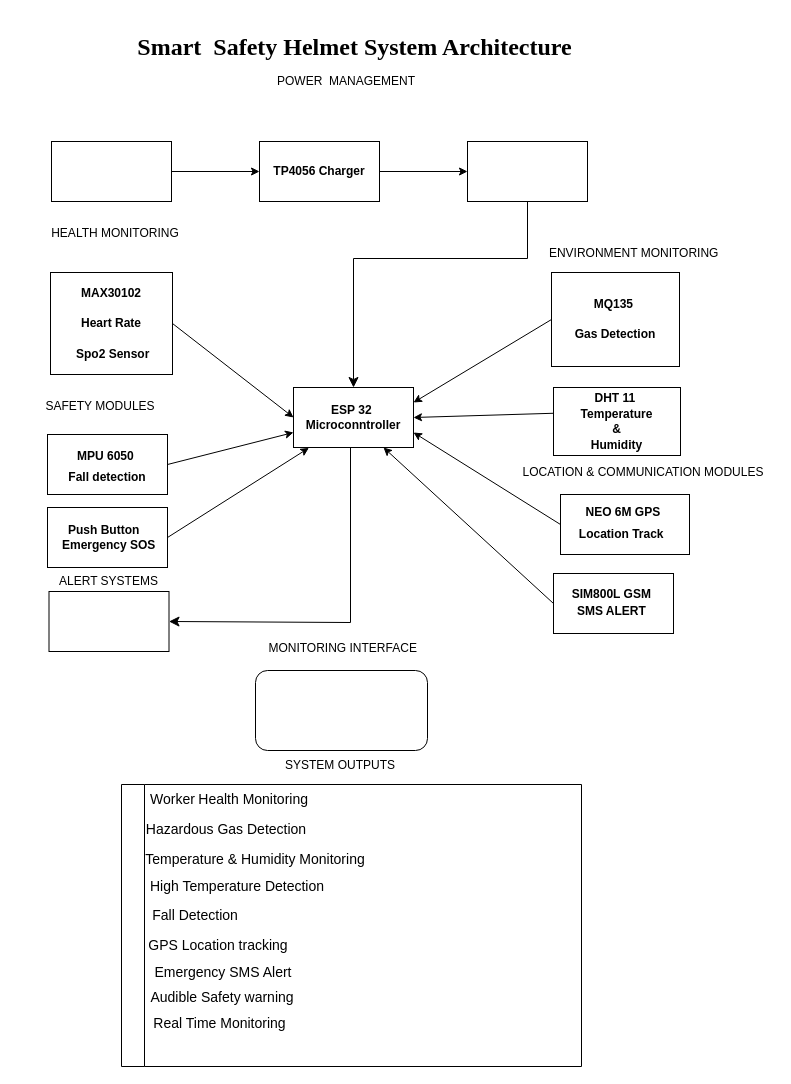
This 791x1084 diagram has some shape labels left out. Here are the shapes that lost their labels. From the top down, the centre of each, then its label:
At [111,171]: "Li-ion Battery".
At [527,171]: "Voltage Reg . Module".
At [108,621]: "Buzzer LED".
At [341,710]: "HTML Dashboard Real Time Data Visualisation".
